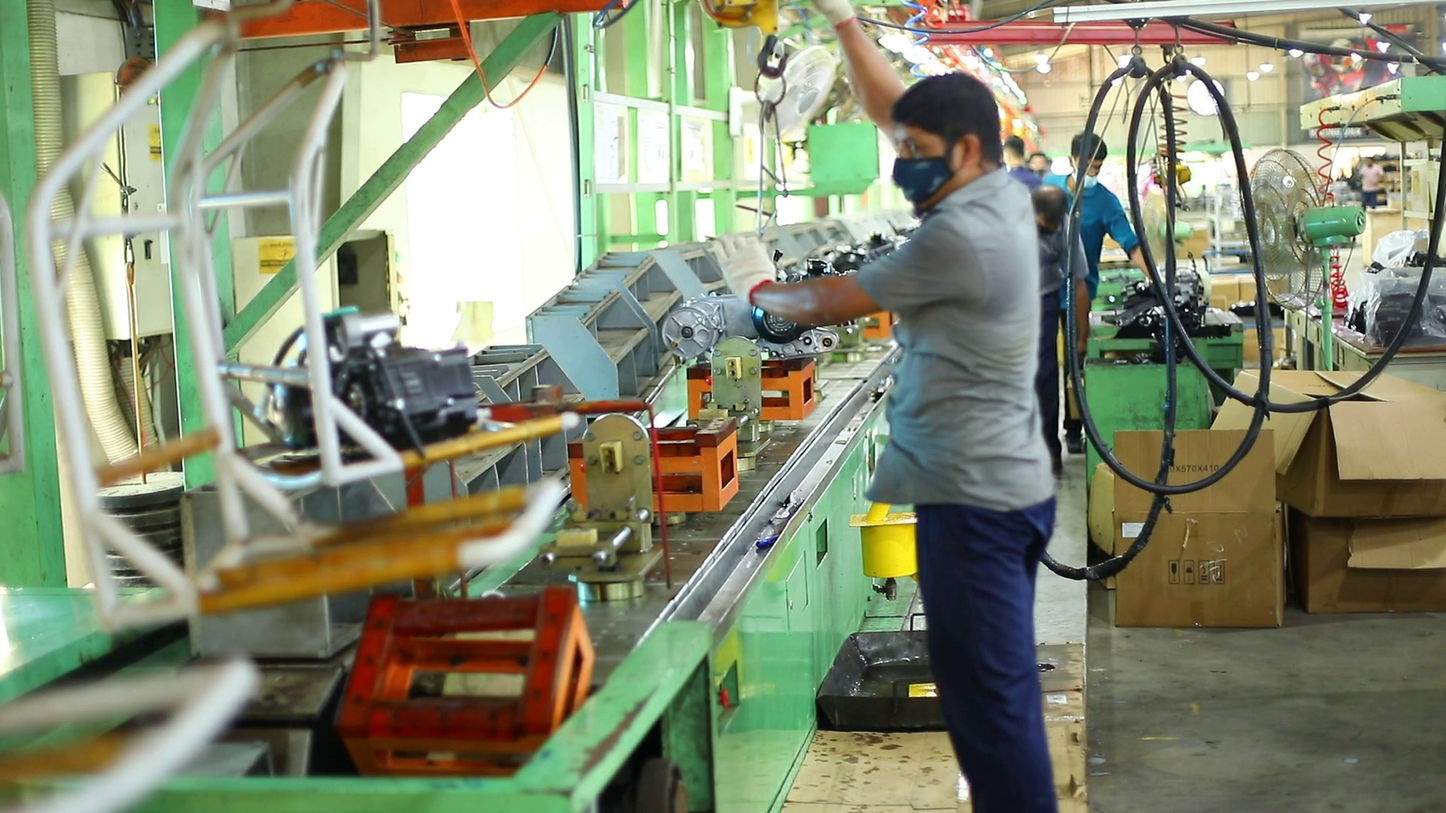mask: (892, 157, 955, 206), (1075, 169, 1102, 190)
person: (710, 0, 1068, 813), (1039, 135, 1159, 453), (1030, 184, 1093, 472), (1002, 136, 1045, 193), (1359, 158, 1387, 211), (1026, 151, 1053, 186)
